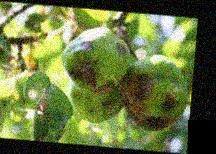rotten apple: (119, 54, 189, 136), (57, 25, 133, 93)
